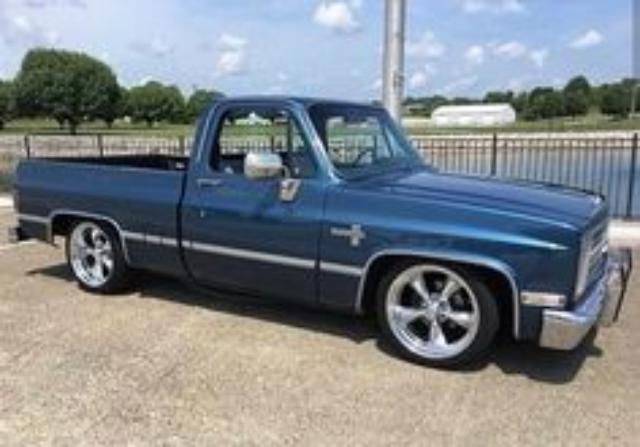pickup-truck: (8, 94, 624, 370)
